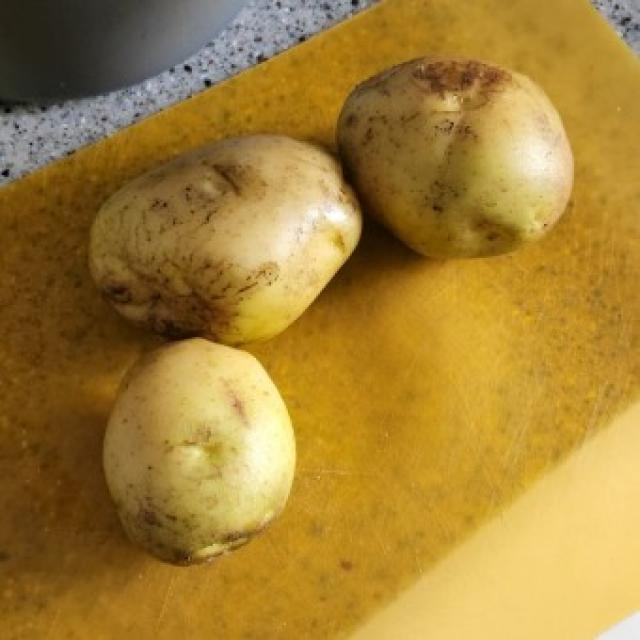potato: (81, 126, 370, 345), (332, 49, 578, 256), (102, 336, 300, 564)
